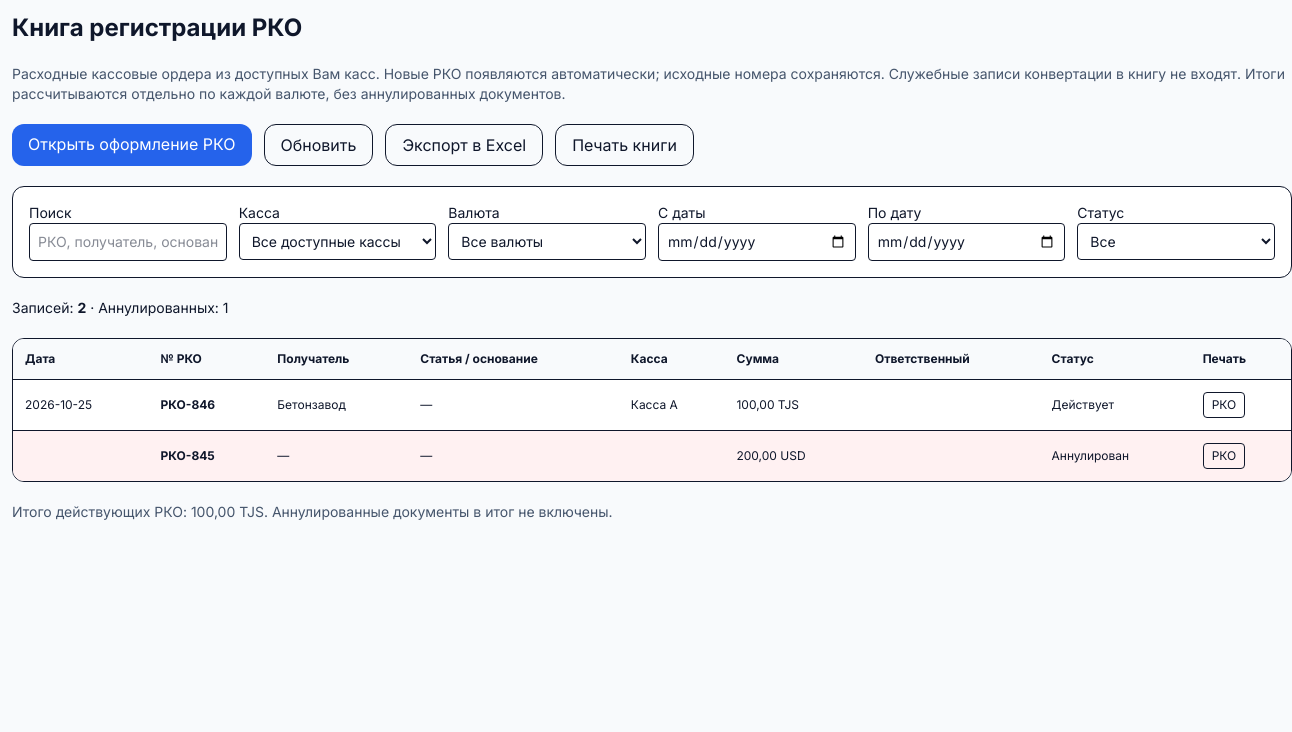
Scenario: RKO book page › sends every selected filter to the book endpoint and the Excel export
Expected: the text "РКО-846" is shown, [149,380,265,430]
Type "бетон" into the field named "Поиск по книге РКО" at coordinates (128, 242), box [29,223,227,261]
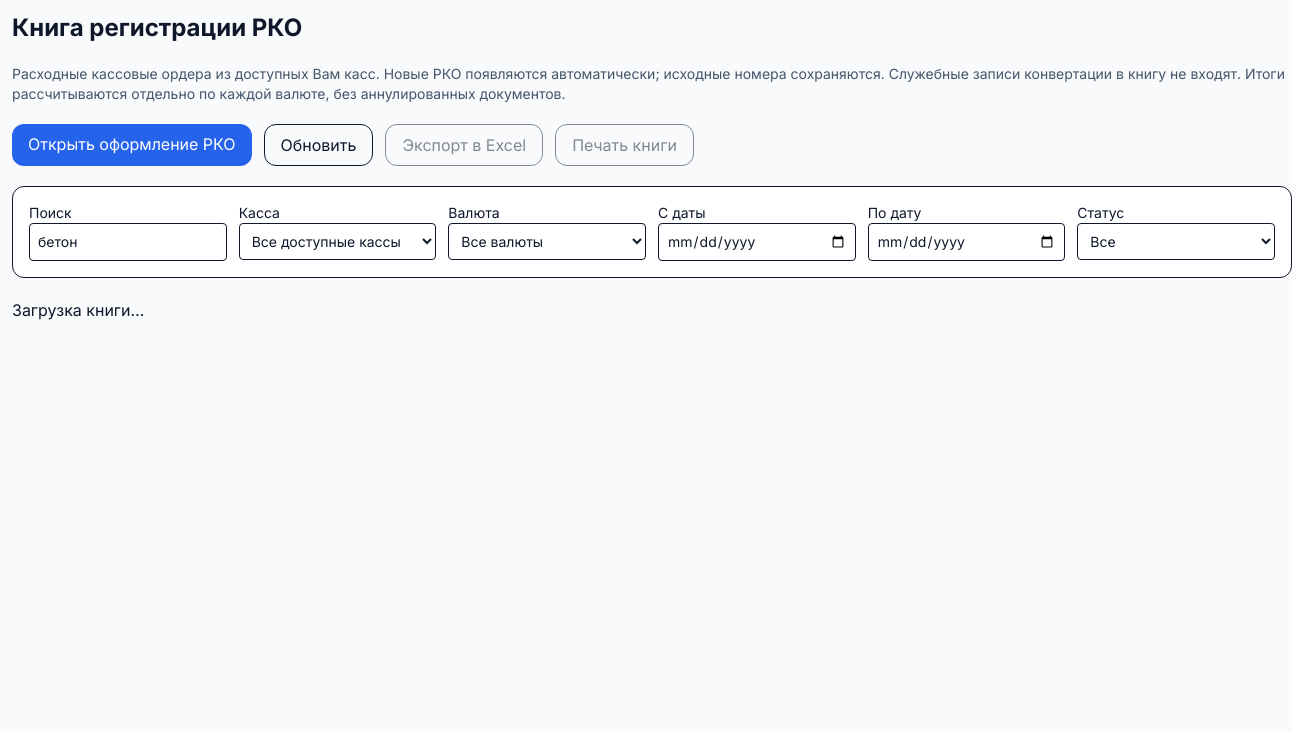
Select "Касса А" in the dropdown labelled "Касса" at coordinates (338, 242), box [239,223,436,260]
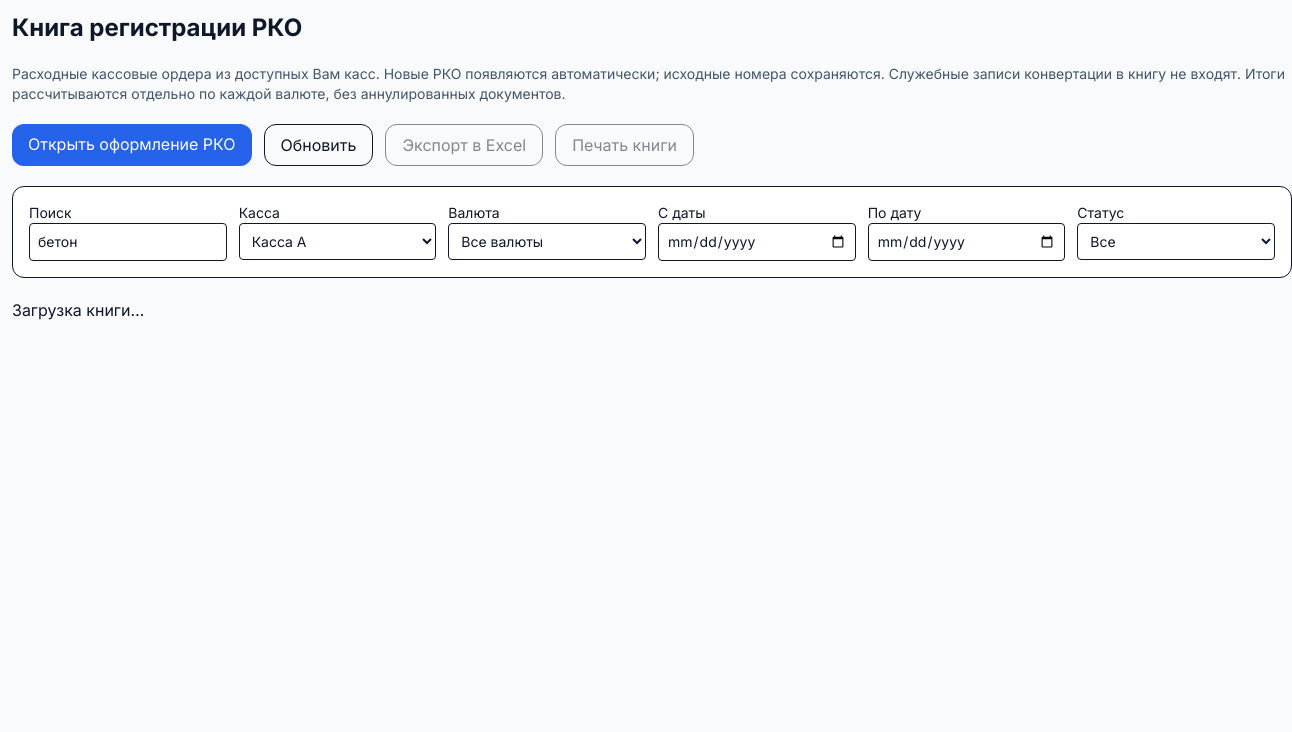
Type "2026-10-01" into the date field labelled "С даты" at coordinates (757, 242), box [658,223,856,261]
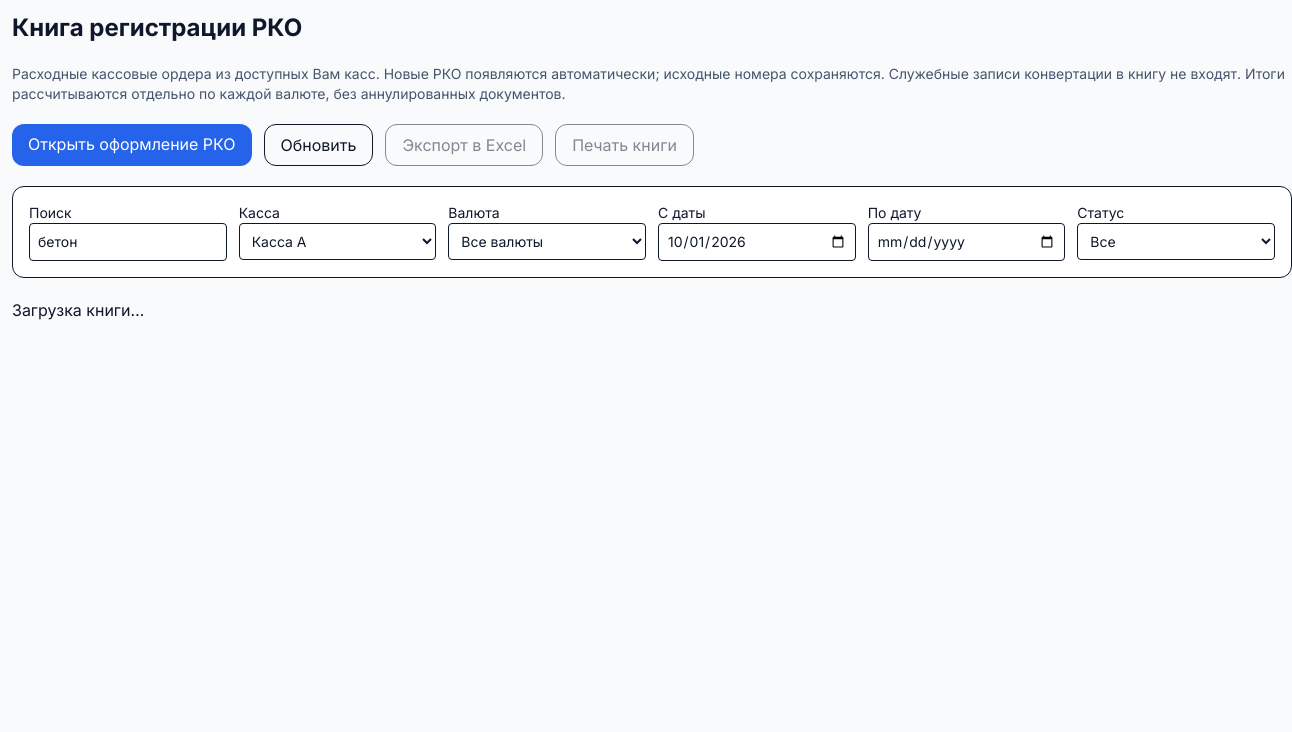
Select "Действующие" in the dropdown labelled "Статус" at coordinates (1176, 242), box [1077,223,1275,260]
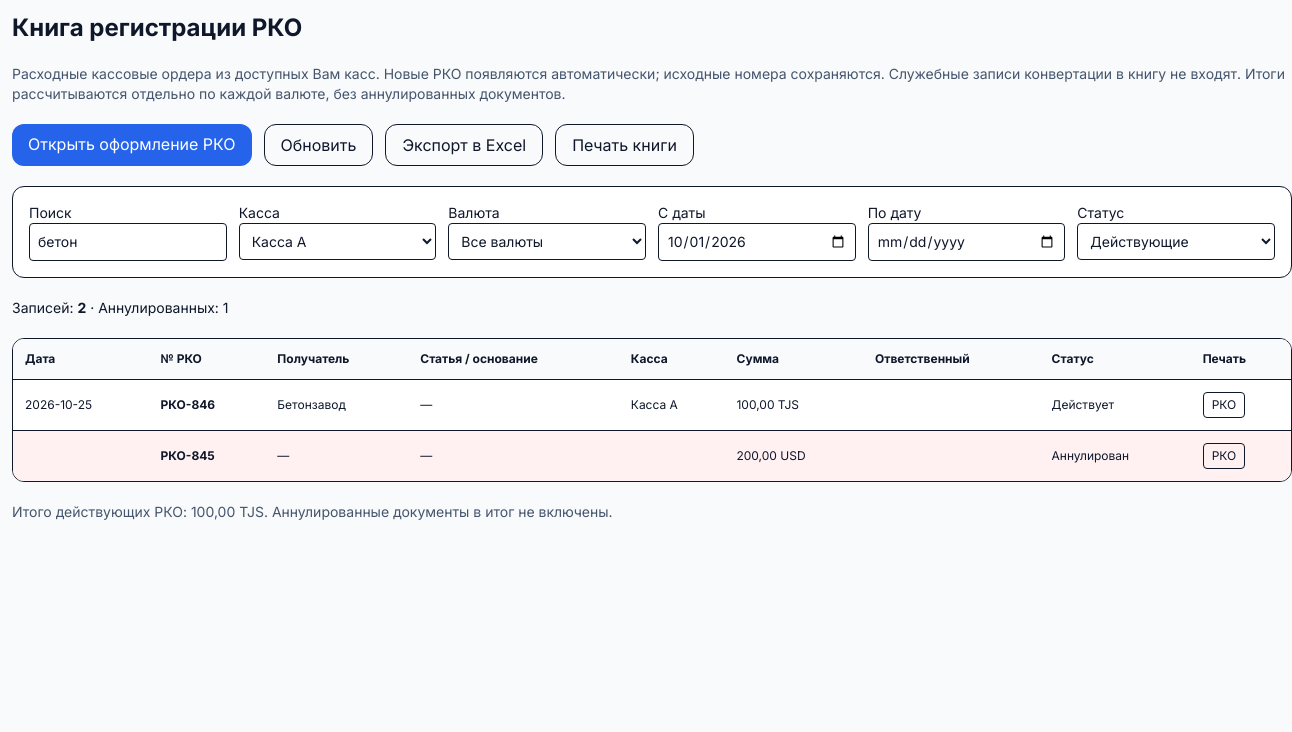
Result: the button "Экспорт в Excel" is enabled
Click the button "Экспорт в Excel" at coordinates (464, 145), box [385,124,543,166]
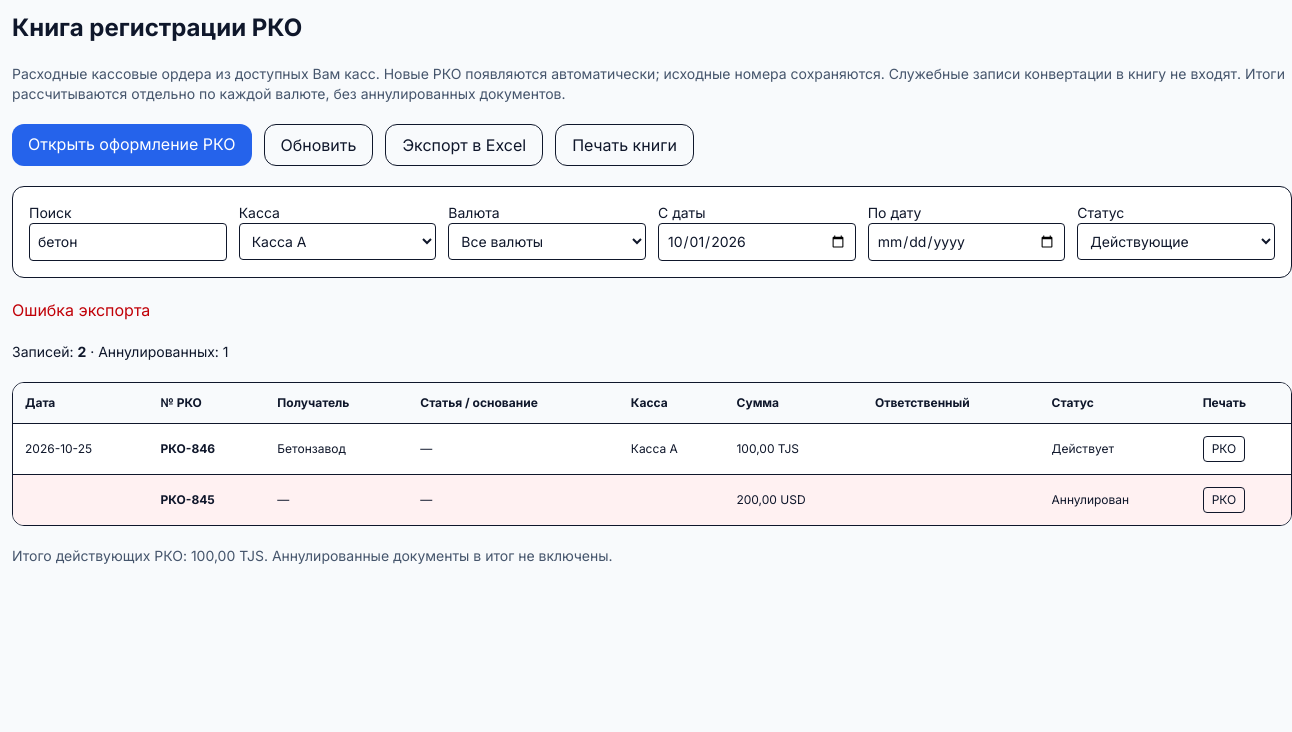
Result: the text "Ошибка экспорта" is shown at [12,300,150,320]
